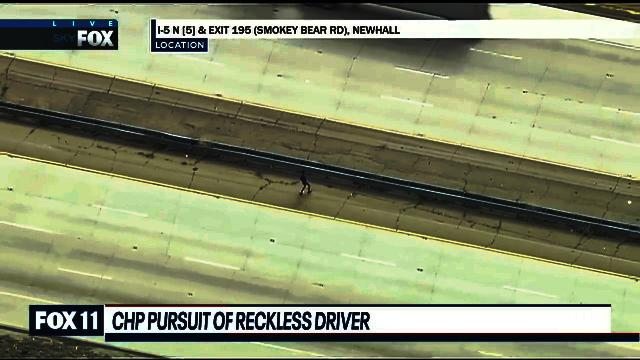berlari: (295, 166, 313, 198)
